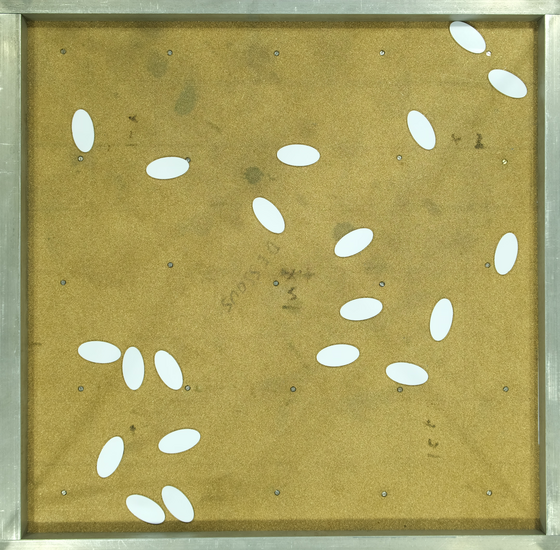pallet: (61, 105, 108, 156), (160, 477, 207, 528), (336, 284, 383, 335), (315, 330, 362, 381), (146, 344, 193, 395), (75, 324, 122, 375), (247, 189, 294, 240), (275, 131, 322, 182), (144, 141, 191, 192), (397, 104, 444, 155), (383, 347, 430, 398), (330, 217, 377, 268), (421, 293, 468, 344), (484, 229, 531, 280), (480, 59, 527, 110), (447, 10, 494, 61), (157, 412, 204, 463), (84, 433, 131, 484), (119, 487, 167, 535), (113, 338, 152, 396)
